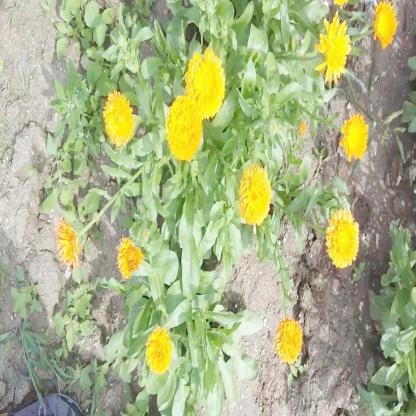marigold: (187, 50, 222, 118), (316, 17, 351, 85), (166, 95, 200, 160), (238, 165, 270, 224), (327, 212, 359, 268), (102, 90, 134, 142), (373, 0, 398, 50), (274, 318, 302, 362), (146, 328, 172, 374), (342, 114, 366, 158), (55, 221, 78, 265), (116, 238, 140, 279)
